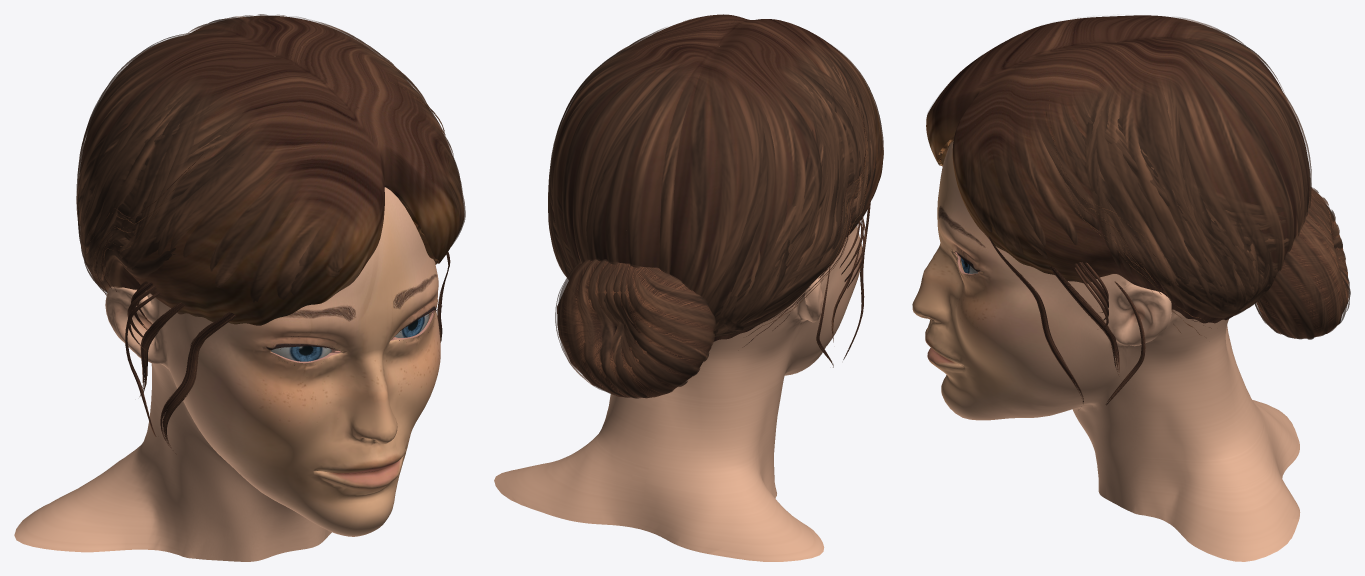
Rendered from marianne-reference.glb.
The picture shows the model from 3 angles, left to right: view 1: azimuth 30°, elevation 25°; view 2: azimuth 150°, elevation 25°; view 3: azimuth 270°, elevation 25°; orthographic projection. The views are drawn at different scales.
Parts seen in each view (by area): view 1: 01 | Visage et cou, 06 | Chevelure continue, Mèches superposées, 13 | Boucles libres, 08 | Échappées du chignon, 02 | Globe et iris D; view 2: Mèches superposées, 06 | Chevelure continue, 01 | Visage et cou, 10 | Chignon brun RehmanPolanski, 13 | Boucles libres, 08 | Échappées du chignon, 08 | Échappées du chignon.001; view 3: 01 | Visage et cou, Mèches superposées, 06 | Chevelure continue, 10 | Chignon brun RehmanPolanski, 13 | Boucles libres.
Part boxes in pixels (<box>): 01 | Visage et cou: <box>14,187,440,561</box>; 06 | Chevelure continue: <box>80,15,463,325</box>; Mèches superposées: <box>76,14,465,302</box>; 13 | Boucles libres: <box>125,252,450,445</box>; 08 | Échappées du chignon: <box>85,80,445,295</box>; 02 | Globe et iris D: <box>271,346,331,361</box>; Mèches superposées: <box>548,27,883,398</box>; 06 | Chevelure continue: <box>551,14,883,341</box>; 01 | Visage et cou: <box>494,225,862,561</box>; 10 | Chignon brun RehmanPolanski: <box>557,259,713,397</box>; 13 | Boucles libres: <box>816,203,870,364</box>; 08 | Échappées du chignon: <box>683,20,868,336</box>; 08 | Échappées du chignon.001: <box>742,63,865,347</box>; 01 | Visage et cou: <box>912,141,1300,561</box>; Mèches superposées: <box>928,17,1350,339</box>; 06 | Chevelure continue: <box>926,15,1309,323</box>; 10 | Chignon brun RehmanPolanski: <box>1256,187,1348,338</box>; 13 | Boucles libres: <box>989,236,1145,404</box>.
Size of what is drawn, in the model's own units: 0.2166 by 0.2756 by 0.2457.
17 materials, 7 textured.
